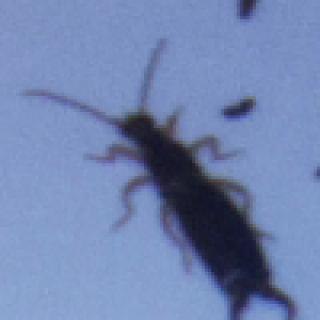earwig: (20, 32, 298, 320)
